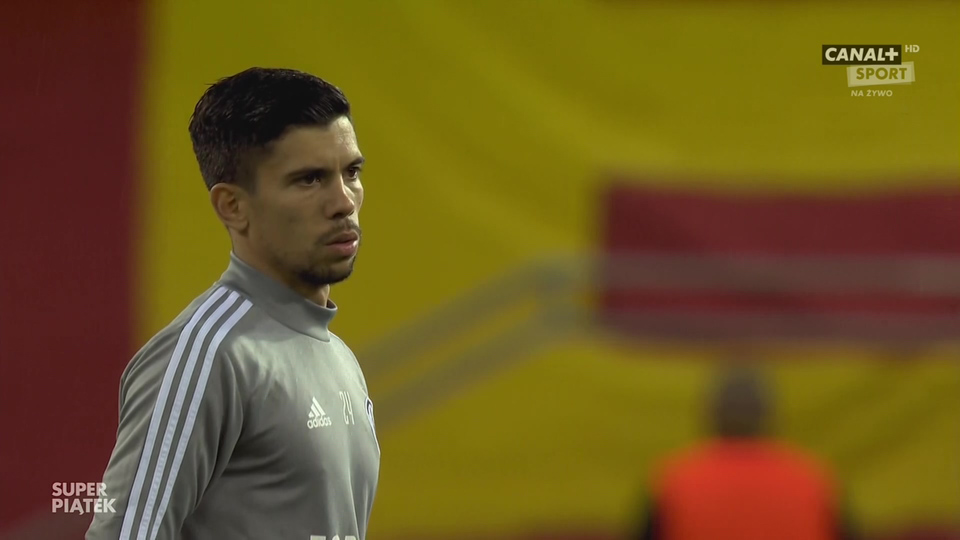Adidas: (303, 394, 333, 431)
